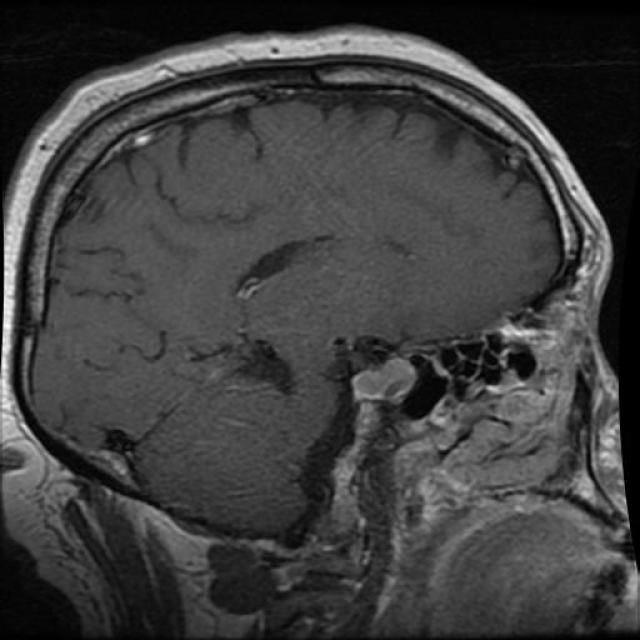pituitary: (342, 345, 426, 413)
